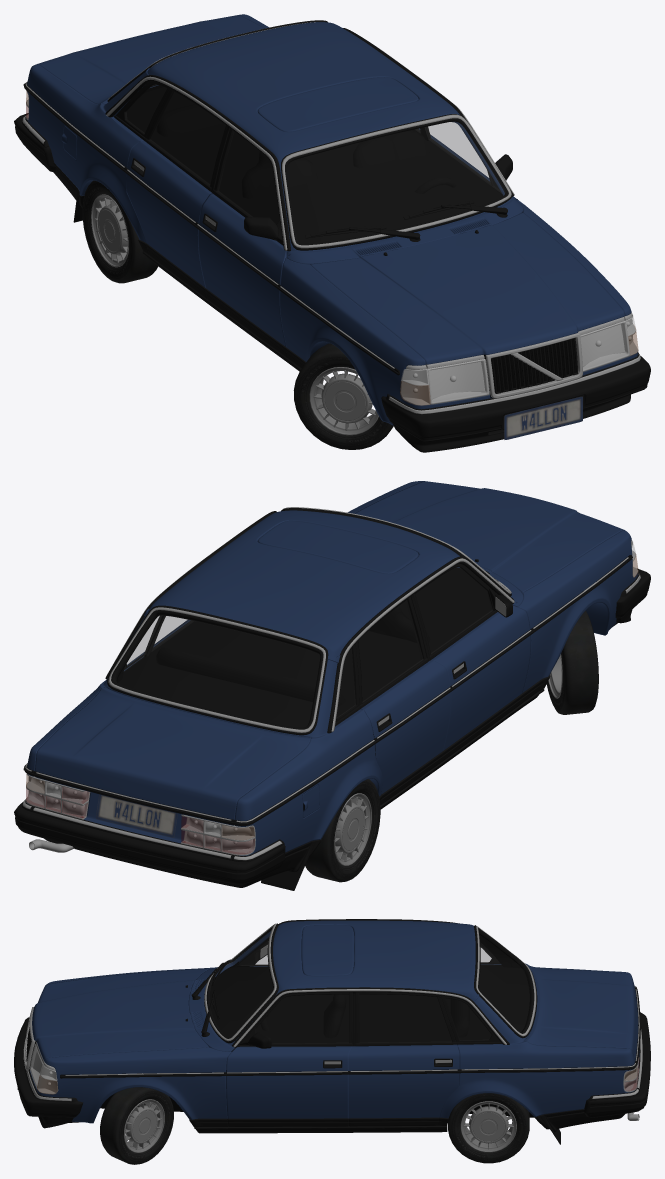
The model's file is volvo_240.glb.
3 renders of one model, top to bottom at view 1: azimuth 30°, elevation 25°; view 2: azimuth 150°, elevation 25°; view 3: azimuth 270°, elevation 25°, orthographic. The views are drawn at different scales.
Visible parts, largest first — view 1: Plane.015, Plane, Plane.018, Cube.002, front fender, Plane.020, Plane.016, bumper, Plane.001, Plane.059, Cube.003, Plane.062 (+25 smaller); view 2: Plane.015, Plane.018, Plane.016, Cube.002, Plane, front fender, Plane.020, Plane.001, Plane.032, Cube.003, Plane.017, tire.002 (+22 smaller); view 3: Plane.015, Plane.018, Cube.002, Plane, front fender, Plane.020, Plane.016, Plane.001, tire.002, tire.001, rim.001, bumper (+23 smaller).
Boxes of the visible parts, <box> form: Plane.015: <box>27,14,523,264</box>; Plane: <box>310,212,625,364</box>; Plane.018: <box>126,85,504,242</box>; Cube.002: <box>126,87,502,243</box>; front fender: <box>279,202,637,425</box>; Plane.020: <box>197,140,522,346</box>; Plane.016: <box>38,15,264,104</box>; bumper: <box>381,352,650,441</box>; Plane.001: <box>126,128,442,287</box>; Plane.059: <box>400,316,638,405</box>; Cube.003: <box>156,104,430,198</box>; Plane.062: <box>427,321,630,404</box>; Plane.015: <box>26,510,523,856</box>; Plane.018: <box>118,567,492,726</box>; Plane.016: <box>35,687,311,843</box>; Cube.002: <box>118,567,491,727</box>; Plane: <box>354,481,623,593</box>; front fender: <box>347,481,637,692</box>; Plane.020: <box>431,605,531,750</box>; Plane.001: <box>138,619,450,794</box>; Plane.032: <box>14,802,285,884</box>; Cube.003: <box>156,605,430,706</box>; Plane.017: <box>107,605,328,735</box>; tire.002: <box>546,611,598,714</box>; Plane.015: <box>188,920,634,1118</box>; Plane.018: <box>209,931,529,1043</box>; Cube.002: <box>209,965,529,1051</box>; Plane: <box>32,968,208,1060</box>; front fender: <box>30,967,231,1123</box>; Plane.020: <box>226,966,352,1118</box>; Plane.016: <box>524,964,639,1067</box>; Plane.001: <box>349,1044,459,1118</box>; tire.002: <box>100,1087,173,1164</box>; tire.001: <box>448,1093,529,1163</box>; rim.001: <box>460,1101,516,1152</box>; bumper: <box>14,1017,83,1117</box>.
Bounding box in the file's own units: 22.8 × 16.33 × 54.79.
Materials: 11 (2 with a texture image).
